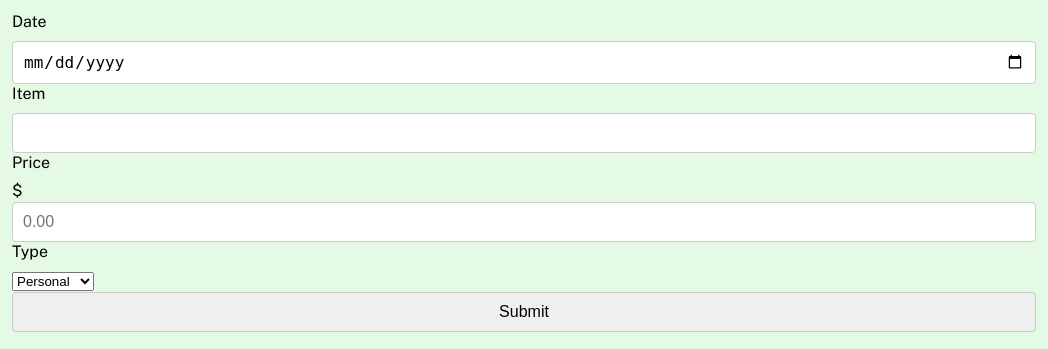
Test: Form Component Tests › submits the form and resets the inputs
Type "2024-12-06" into the date field labelled "Date".
click(524, 62); type("2024-12-06")  # box [12,41,1036,84]
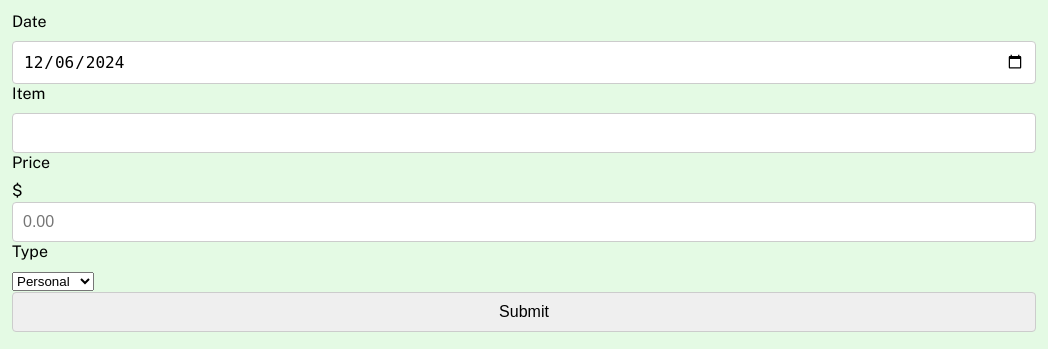
Type "Milk" into the field labelled "Item".
click(524, 133); type("Milk")  # box [12,113,1036,153]
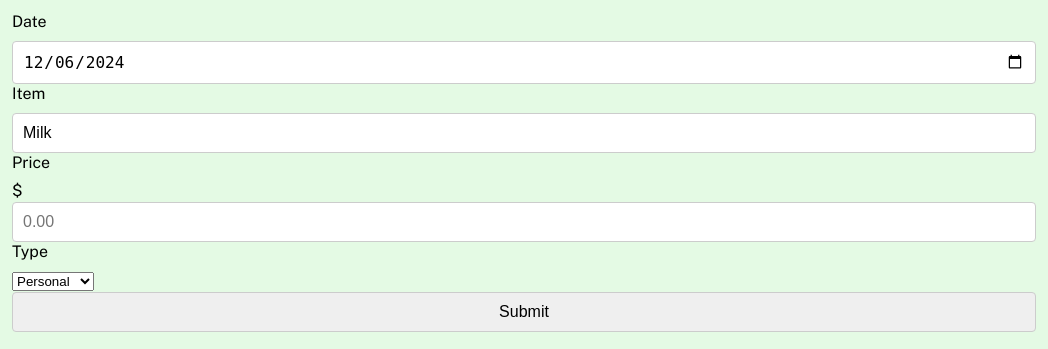
Type "3.99" into the number field labelled "Price".
click(524, 222); type("3.99")  # box [12,202,1036,242]
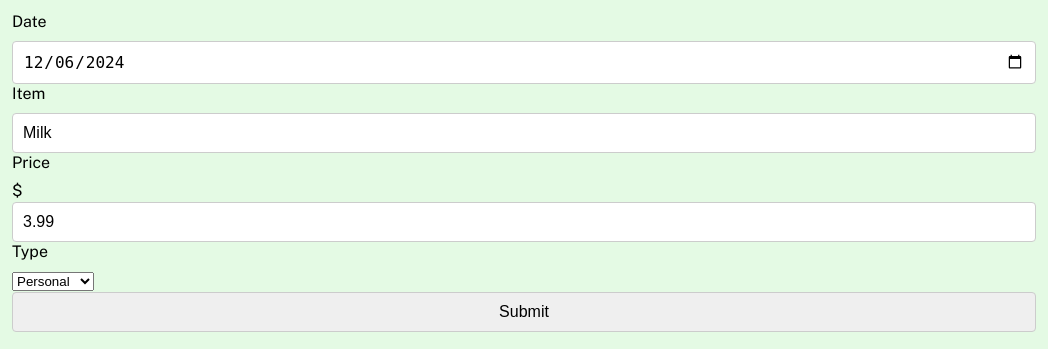
Select "Grocery" in the dropdown labelled "Type" at (53, 282), box [12,272,94,291]
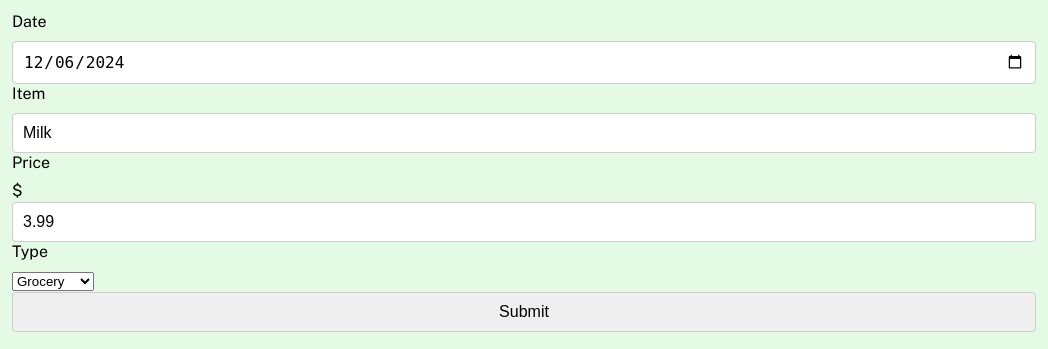
Click the button "Submit".
click(524, 312)  # box [12,292,1036,332]
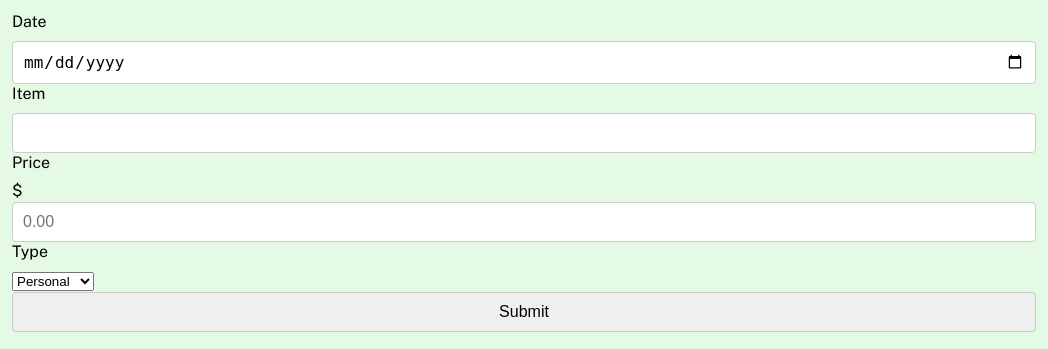
Now the date field labelled "Date" is empty, box [12,41,1036,84]
Now the field labelled "Item" is empty, box [12,113,1036,153]
Now the number field labelled "Price" is not empty, box [12,202,1036,242]
